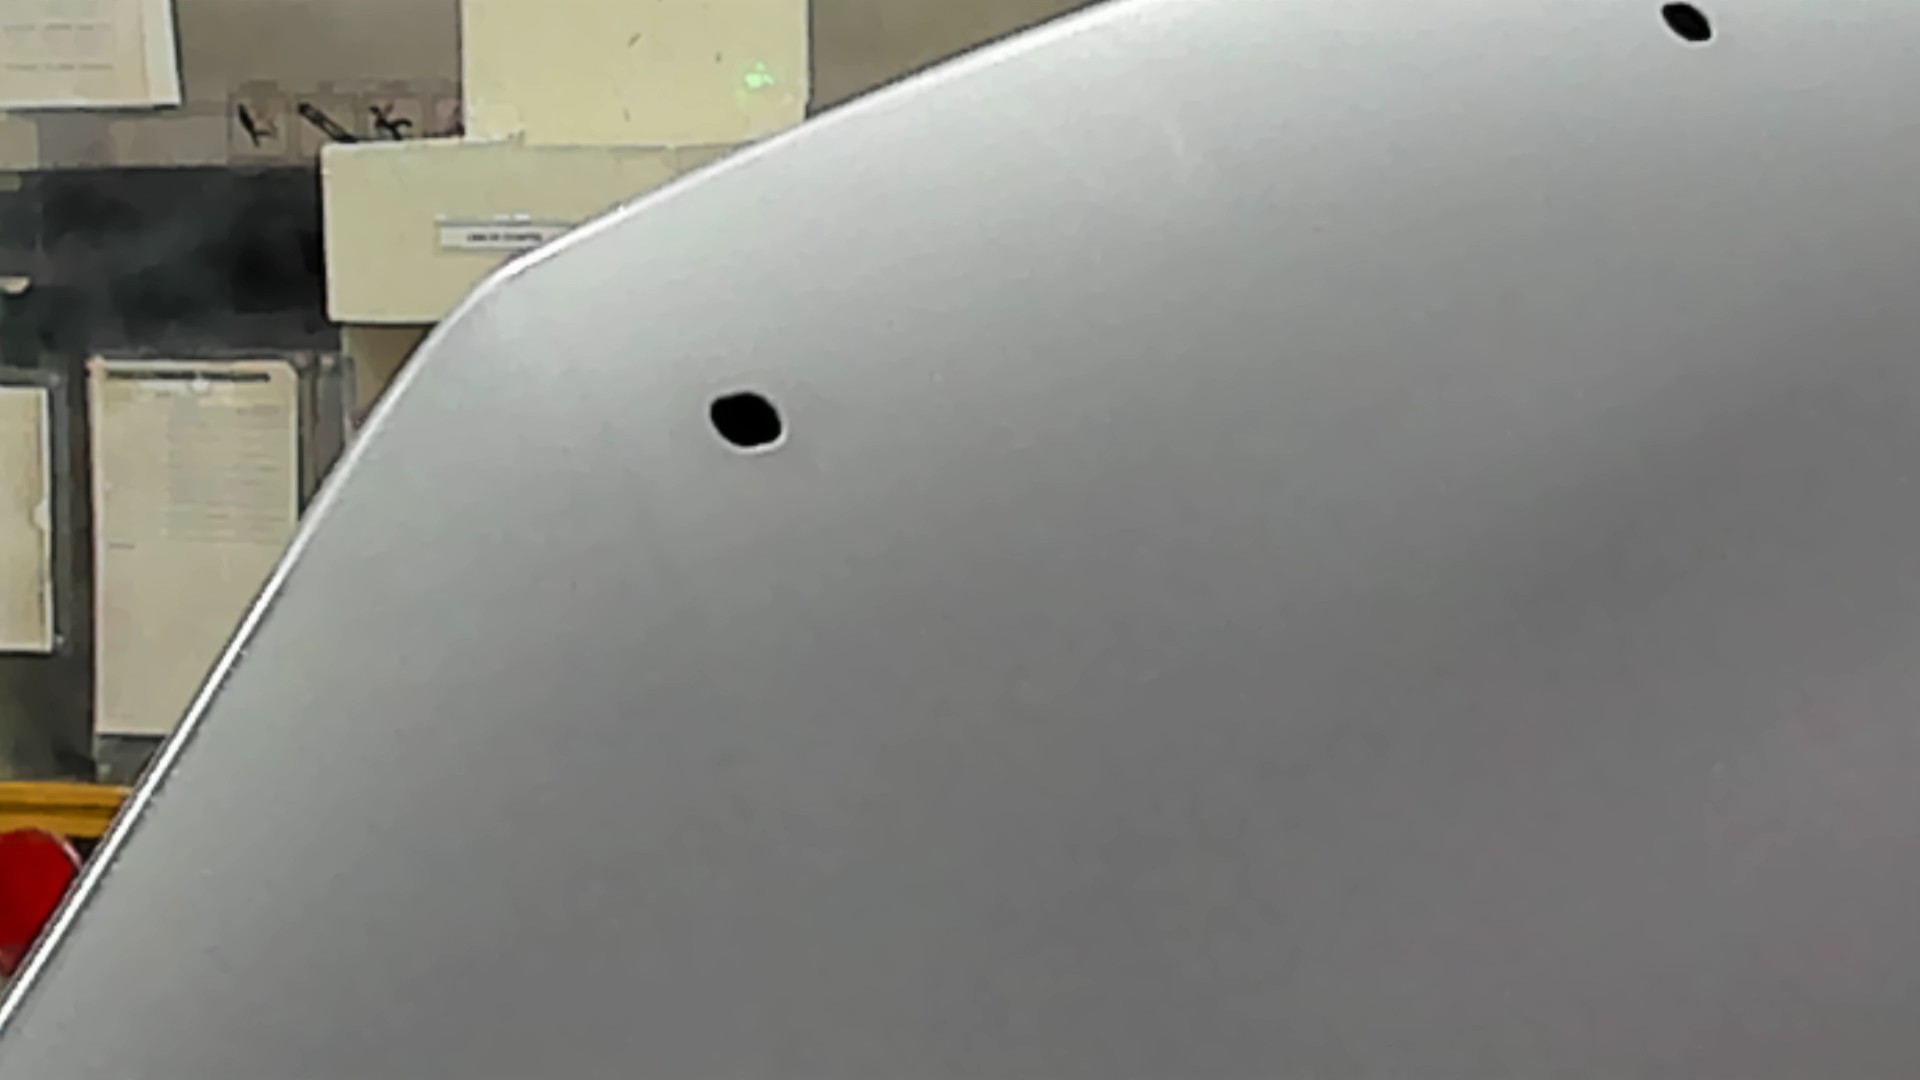chico: (696, 373, 796, 460), (1650, 1, 1727, 61)
